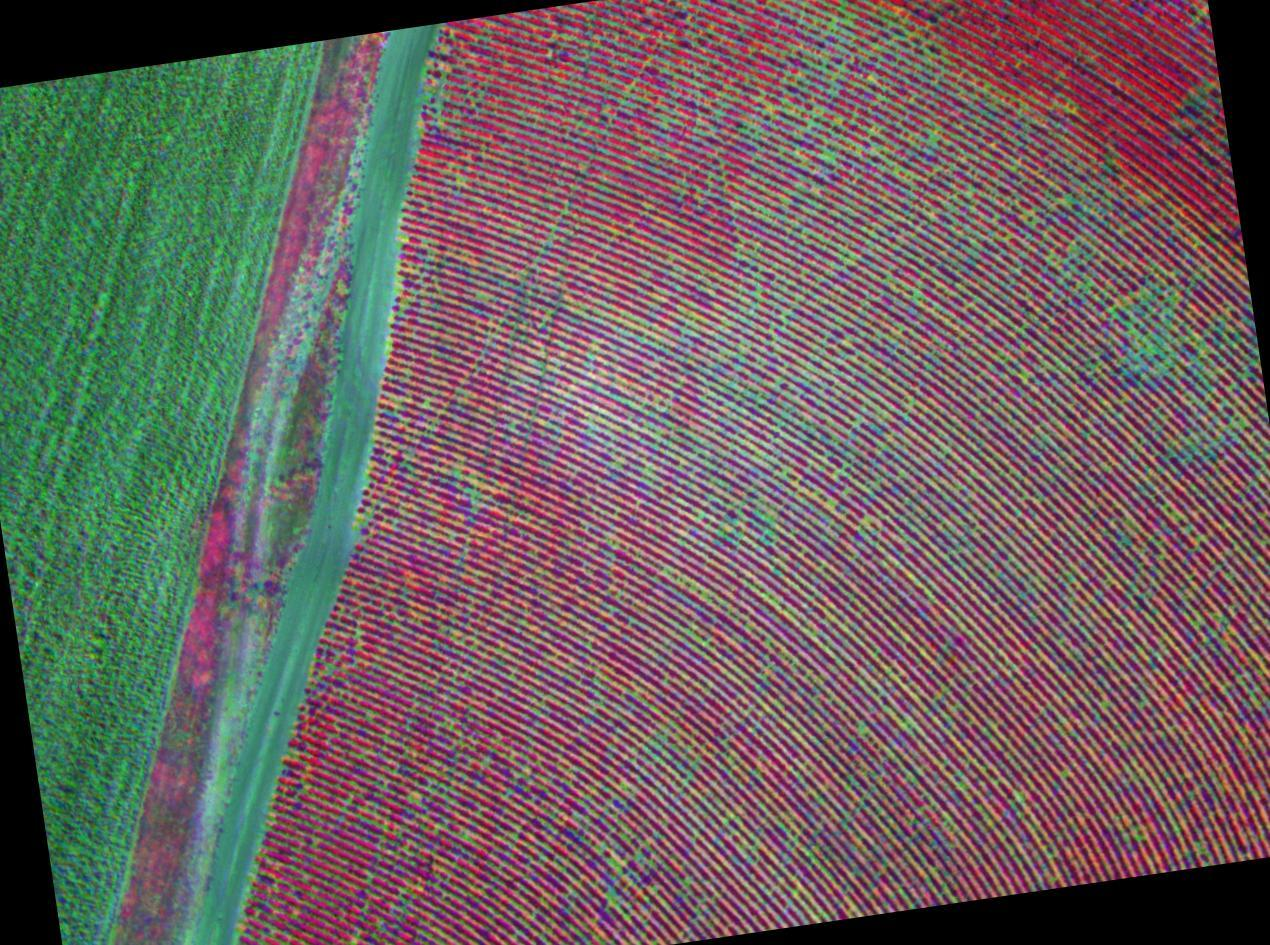dc: (612, 858, 623, 867), (1138, 292, 1148, 301), (1170, 512, 1181, 520), (929, 137, 938, 144), (410, 794, 419, 801), (1102, 704, 1108, 708)
